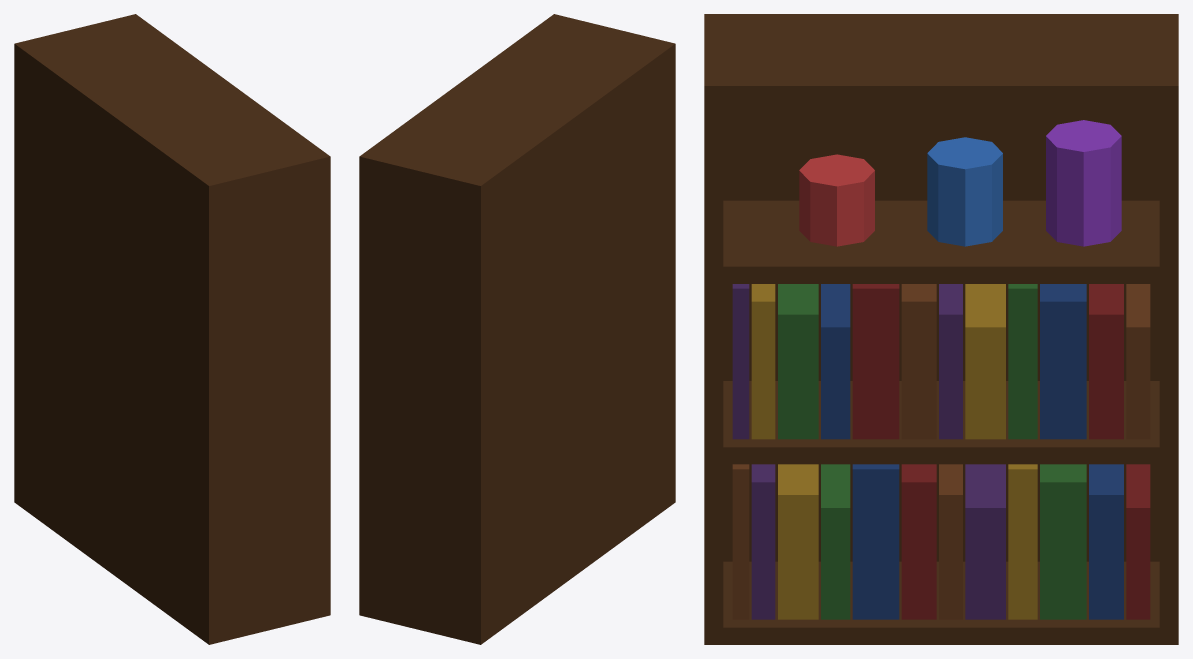
File: lab-shelf.glb
3 renders of one model, left to right at view 1: azimuth 30°, elevation 25°; view 2: azimuth 150°, elevation 25°; view 3: azimuth 270°, elevation 25°, orthographic. The views are drawn at different scales.
Visible parts, largest first — view 1: lab-shelf; view 2: lab-shelf; view 3: lab-shelf.
Boxes of the visible parts, box(x1,y1,x2,y2) form: lab-shelf: box(14, 14, 330, 644); lab-shelf: box(359, 14, 675, 644); lab-shelf: box(704, 14, 1178, 644).
Bounding box in the file's own units: 0.36 × 1.3 × 1.
